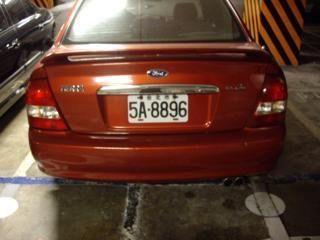plate: (126, 95, 191, 123)
